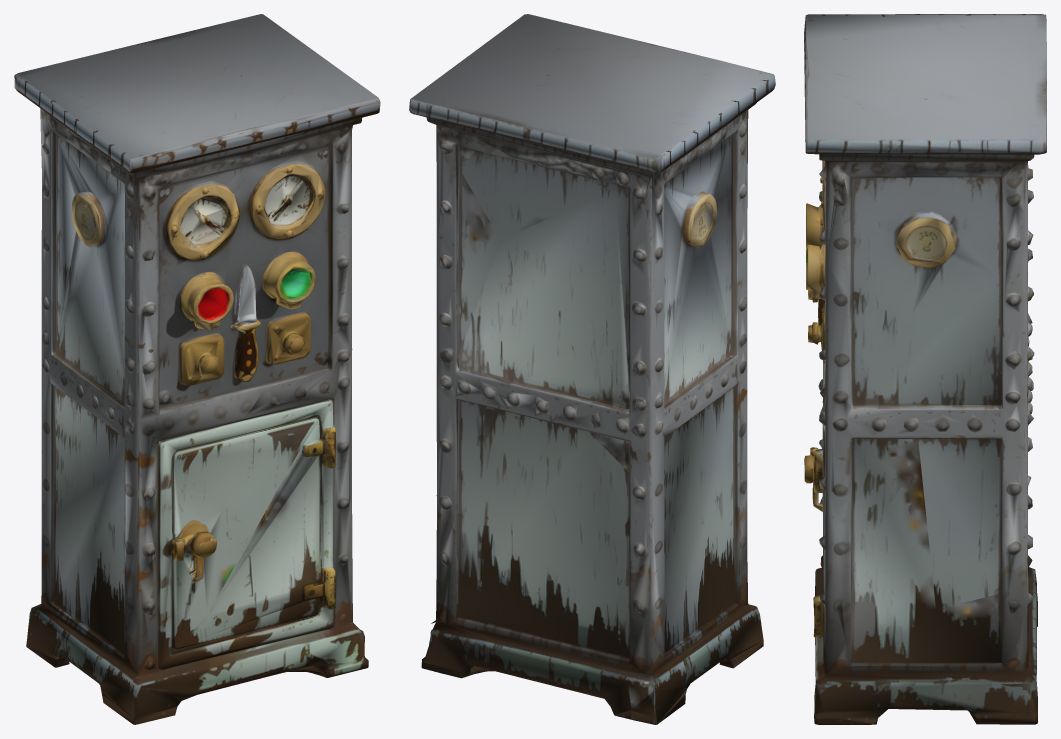
The model's file is lhi_instrument_cabinet.glb.
3 renders of one model, left to right at view 1: azimuth 30°, elevation 25°; view 2: azimuth 150°, elevation 25°; view 3: azimuth 270°, elevation 25°, orthographic. The views are drawn at different scales.
Parts seen in each view (by area): view 1: material; view 2: material; view 3: material.
Part boxes in pixels (bbox=[...]): material: bbox=[14, 14, 380, 724]; material: bbox=[409, 14, 775, 724]; material: bbox=[804, 14, 1046, 724].
Size of the model in its own units: 0.4748 by 1.04 by 0.3868.
1 material, 1 textured.
